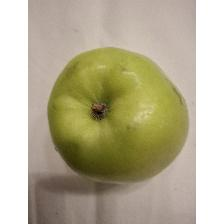Apfel: (46, 45, 190, 188)
